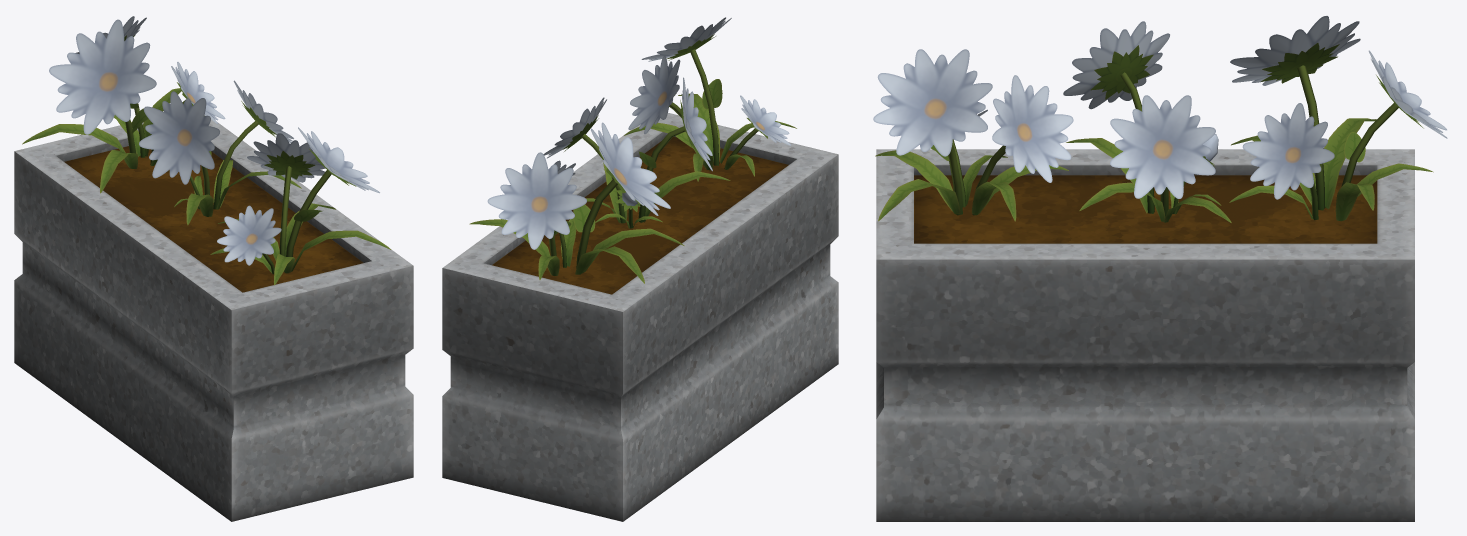
File: pot_lod0_var3_First_Material_0.fbx
3 views of the same model, side by side, from view 1: azimuth 30°, elevation 25°; view 2: azimuth 150°, elevation 25°; view 3: azimuth 270°, elevation 25° (orthographic). The views are drawn at different scales.
Visible parts, largest first — view 1: pot_lod0_var3_First_Material_0; view 2: pot_lod0_var3_First_Material_0; view 3: pot_lod0_var3_First_Material_0.
Boxes of the visible parts, x1,y1,x2,y2 form: pot_lod0_var3_First_Material_0: [14, 16, 413, 521]; pot_lod0_var3_First_Material_0: [442, 17, 838, 521]; pot_lod0_var3_First_Material_0: [873, 16, 1447, 521].
Bounding box in the file's own units: 64.69 × 115 × 139.
